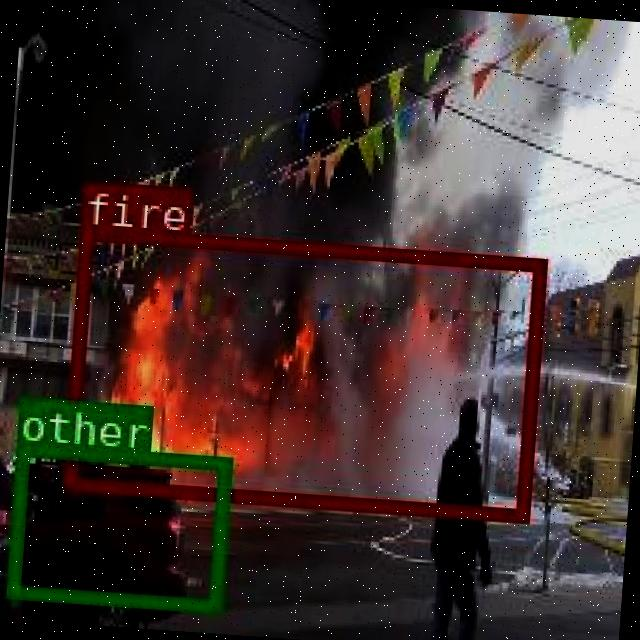fire: (59, 225, 543, 520)
